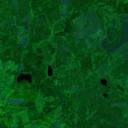alloviz: (16, 71, 33, 84), (46, 64, 54, 77), (98, 76, 108, 86), (101, 91, 109, 98)
